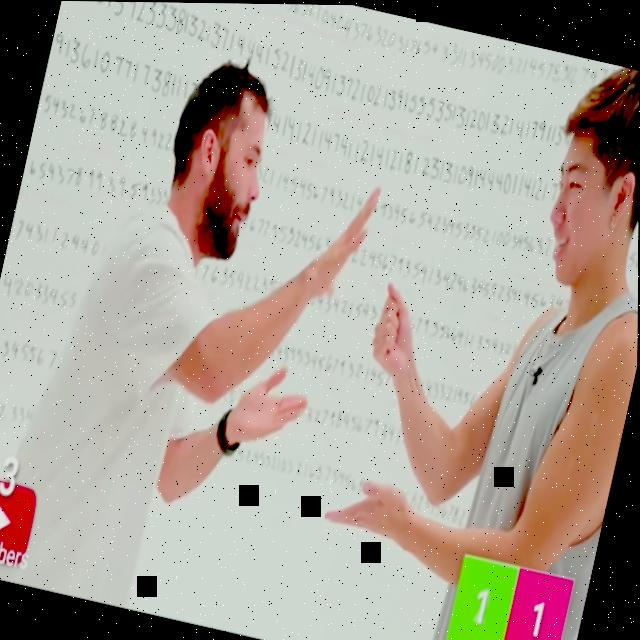Paper: (300, 173, 382, 305)
Rock: (366, 273, 425, 374)
